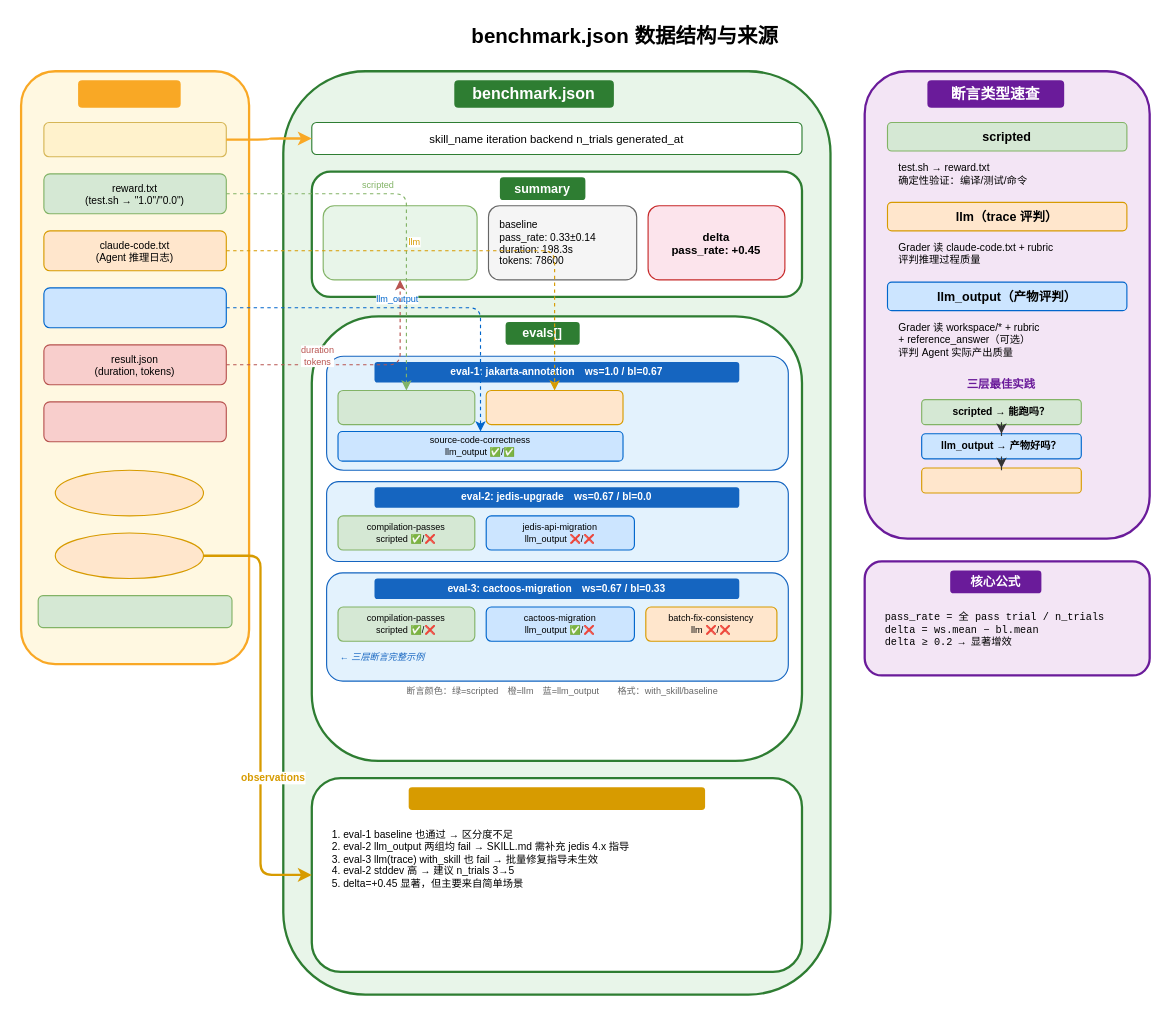
Some shapes in this 1170 by 1015 pixel diagram are drawn without their labels. Here are the shapes that lost their labels. From the top down, the box of each, then its label:
(78, 80, 180, 107): 数据来源
(43, 121, 226, 157): evals.json
(322, 205, 477, 280): with_skill pass_rate: 0.78±0.11 duration: 245.6s tokens: 92400
(43, 287, 226, 328): workspace/* (target_files 产物快照)
(43, 401, 226, 442): trajectory.json (工具调用序列)
(337, 389, 475, 425): compilation-passes scripted ✅/✅
(485, 389, 623, 425): minimal-diff llm ✅/❌
(54, 469, 203, 516): Grader Agent
(921, 467, 1081, 493): llm → 推理对吗？
(54, 532, 203, 579): Analyzer Agent
(37, 595, 232, 628): aggregate_harbor_results.py
(408, 787, 705, 809): analyst_observations[]（Analyzer 生成）
